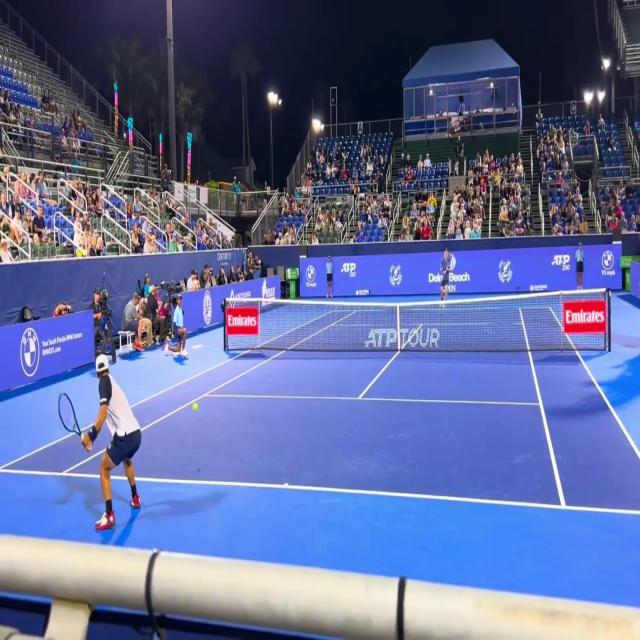tennisBall: (191, 399, 200, 414)
